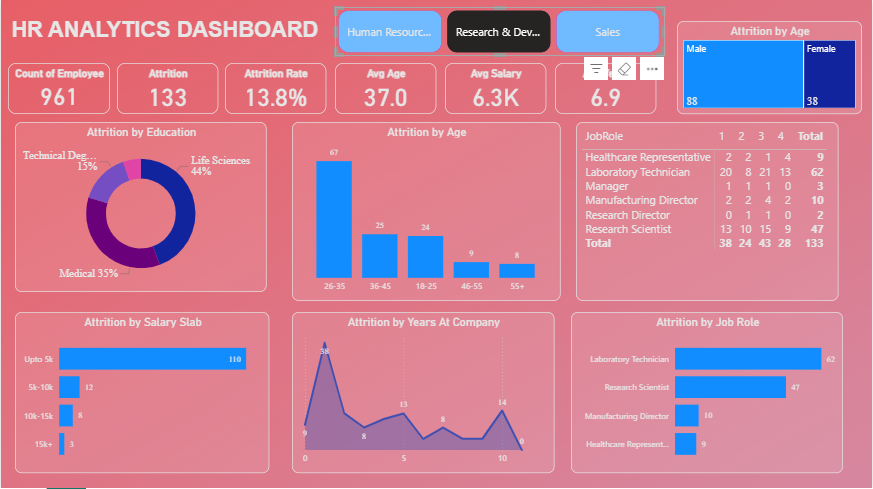

The page's visual inventory and layout, read from the dashboard file:
{"tool":"powerbi","page":{"name":"Page 1","canvas":[1280,720],"ordinal":0},"visuals":[{"type":"card","title":"Count of Employee","fields":{"Values":["Count(HR_Analytics.EmpID)"]},"box":[10.1,92.5,150.4,75.2],"z":0},{"type":"card","title":"Attrition","fields":{"Values":["Sum(HR_Analytics.AttritionCount)"]},"box":[170.6,92.5,148.9,75.2],"z":1000},{"type":"card","title":"Attrition Rate","fields":{"Values":["HR_Analytics.AttitionRate"]},"box":[329.6,92.5,148.9,75.2],"z":2000},{"type":"card","title":"Avg Age","fields":{"Values":["Avg(HR_Analytics.Age)"]},"box":[491.6,92.5,148.9,75.2],"z":3000},{"type":"card","title":"Avg Salary","fields":{"Values":["Avg(HR_Analytics.MonthlyIncome)"]},"box":[653.5,92.5,148.9,75.2],"z":4000},{"type":"card","title":"Avg Years ","fields":{"Values":["Avg(HR_Analytics.YearsAtCompany)"]},"box":[814,92.5,148.9,75.2],"z":5000},{"type":"donutChart","title":"Attrition by Education","fields":{"Category":["HR_Analytics.EducationField"],"Y":["Sum(HR_Analytics.AttritionCount)"]},"box":[20.2,179.3,370.1,250.1],"z":6000},{"type":"columnChart","title":"Attrition by Age","fields":{"Y":["Sum(HR_Analytics.AttritionCount)"],"Category":["HR_Analytics.AgeGroup"]},"box":[428,179.3,394.7,263.1],"z":7000},{"type":"pivotTable","fields":{"Rows":["HR_Analytics.JobRole"],"Columns":["HR_Analytics.JobSatisfaction"],"Values":["Sum(HR_Analytics.AttritionCount)"]},"box":[845.8,179.3,386,263.1],"z":8000},{"type":"barChart","title":"Attrition by Salary Slab","fields":{"Category":["HR_Analytics.SalarySlab"],"Y":["Sum(HR_Analytics.AttritionCount)"]},"box":[20.2,458.3,374.5,237.1],"z":9000},{"type":"barChart","title":"Attrition by Job Role","fields":{"Y":["Sum(HR_Analytics.AttritionCount)"],"Category":["HR_Analytics.JobRole"]},"box":[838.6,458.3,400.5,237.1],"z":10000},{"type":"areaChart","title":"Attrition by Years At Company","fields":{"Y":["Sum(HR_Analytics.AttritionCount)"],"Category":["HR_Analytics.YearsAtCompany"]},"box":[428,458.3,386,237.1],"z":11000},{"type":"treemap","title":"Attrition by Age","fields":{"Values":["Sum(HR_Analytics.AttritionCount)"],"Group":["HR_Analytics.Gender"]},"box":[994.7,30.4,271.8,137.3],"z":12000},{"type":"advancedSlicerVisual","fields":{"Values":["HR_Analytics.Department"]},"box":[491.6,10.1,484.3,72.3],"z":13000},{"type":"textbox","box":[10.1,20.2,467,52],"z":13001}]}

Visuals, with their boxes in screenshot pixels (x1, y1, x2, y2), scaled from the page's 1280x720 canvas onto the 873x489 screenshot:
"Count of Employee" card: 7 63 109 114
"Attrition" card: 116 63 218 114
"Attrition Rate" card: 225 63 326 114
"Avg Age" card: 335 63 437 114
"Avg Salary" card: 446 63 547 114
"Avg Years " card: 555 63 657 114
"Attrition by Education" donutChart: 14 122 266 292
"Attrition by Age" columnChart: 292 122 561 300
pivotTable - HR_Analytics.JobRole x HR_Analytics.JobSatisfaction: 577 122 840 300
"Attrition by Salary Slab" barChart: 14 311 269 472
"Attrition by Job Role" barChart: 572 311 845 472
"Attrition by Years At Company" areaChart: 292 311 555 472
"Attrition by Age" treemap: 678 21 864 114
advancedSlicerVisual - HR_Analytics.Department: 335 7 666 56
textbox: 7 14 325 49
